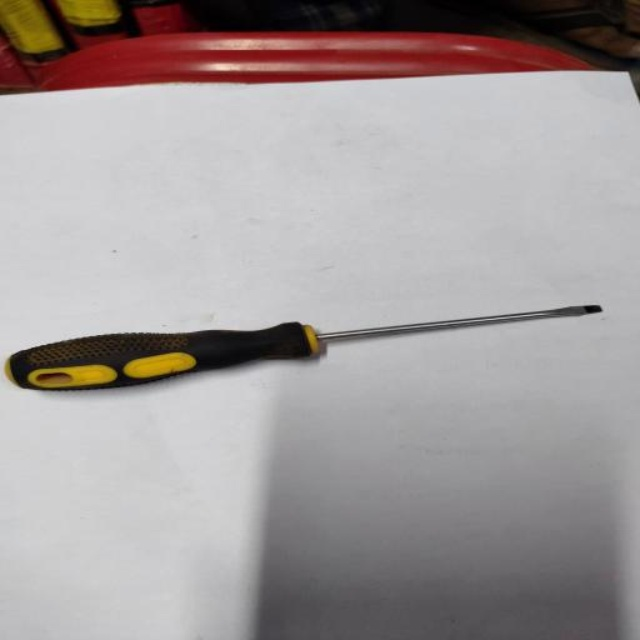screwdriver: (4, 300, 607, 394)
